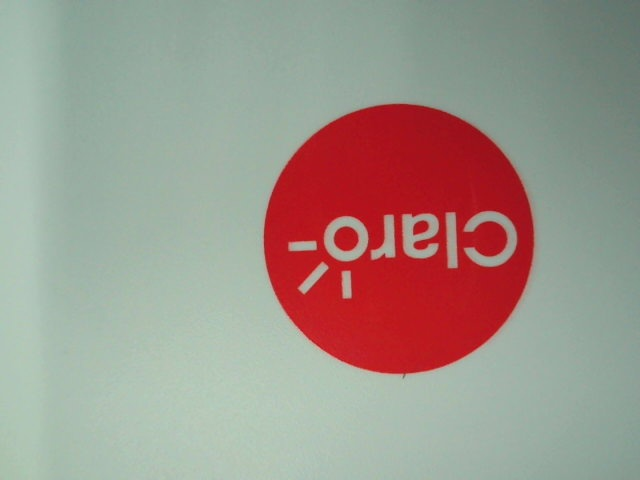BC_ClaorRed: (253, 101, 546, 377)
